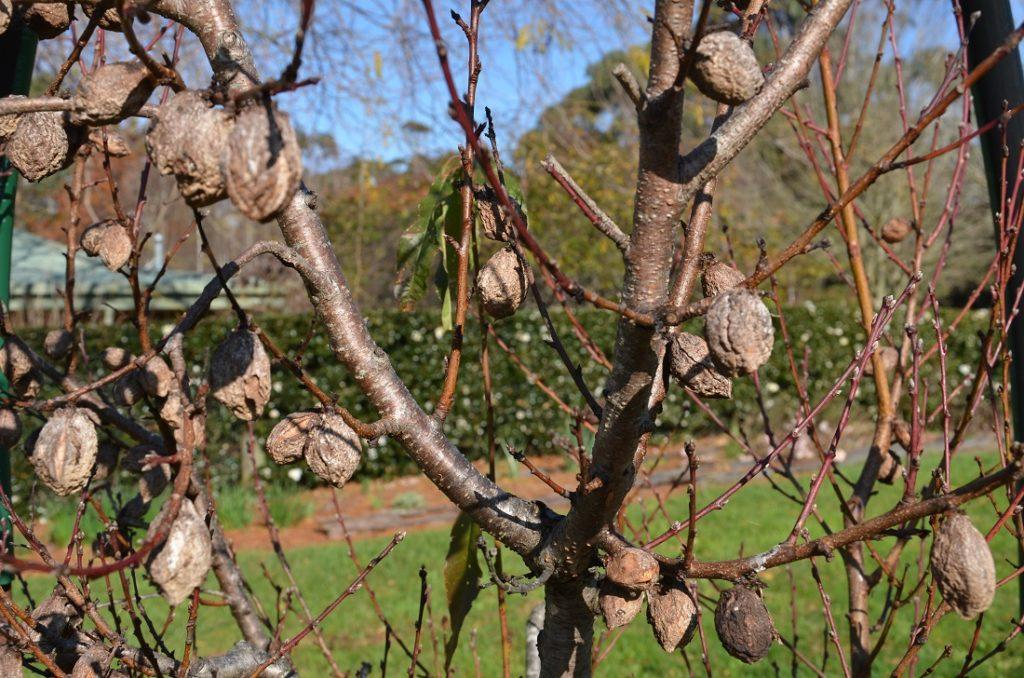mummified_fruits: (146, 90, 232, 206), (220, 98, 301, 221), (147, 500, 211, 605), (932, 513, 994, 618), (704, 289, 773, 375), (31, 407, 97, 495), (210, 328, 270, 420), (689, 31, 763, 105), (6, 111, 84, 181), (71, 62, 154, 125), (715, 586, 774, 662), (670, 332, 731, 397), (304, 414, 358, 487), (476, 248, 527, 318), (647, 578, 695, 652), (267, 410, 321, 462), (607, 547, 658, 590), (600, 579, 642, 628)
